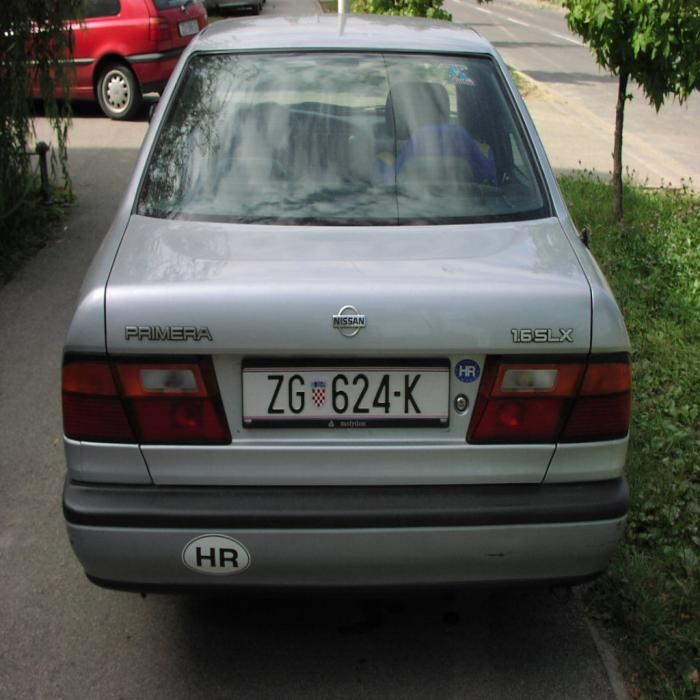number_plate: (242, 367, 446, 415)
